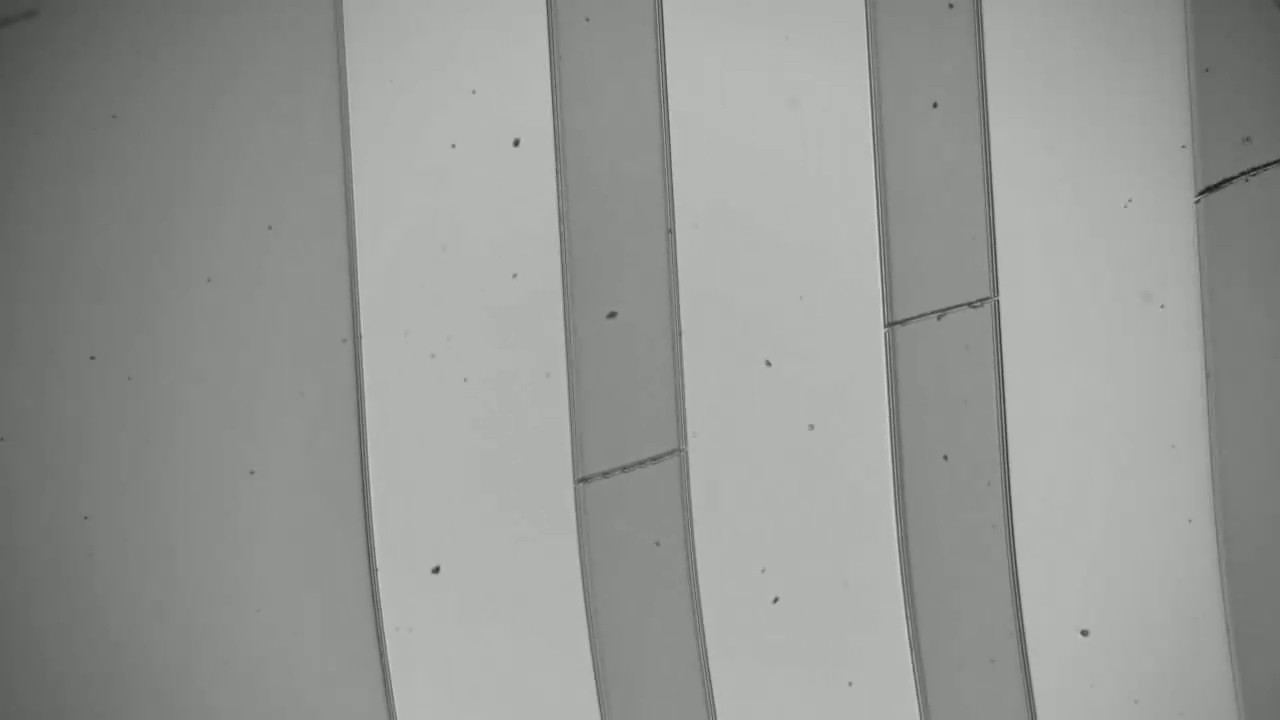scratch: (570, 448, 685, 485), (892, 296, 993, 331), (1196, 157, 1279, 196)
